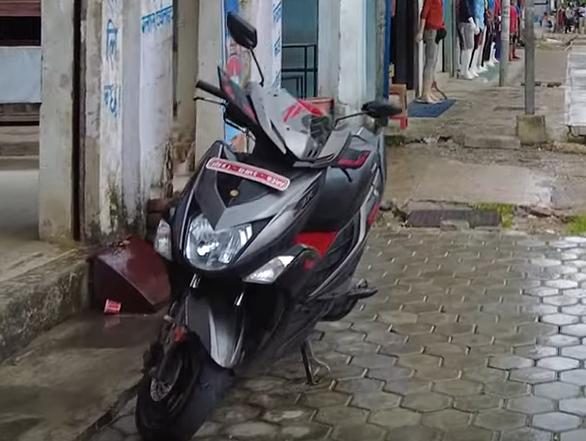scooter: (133, 62, 406, 441)
